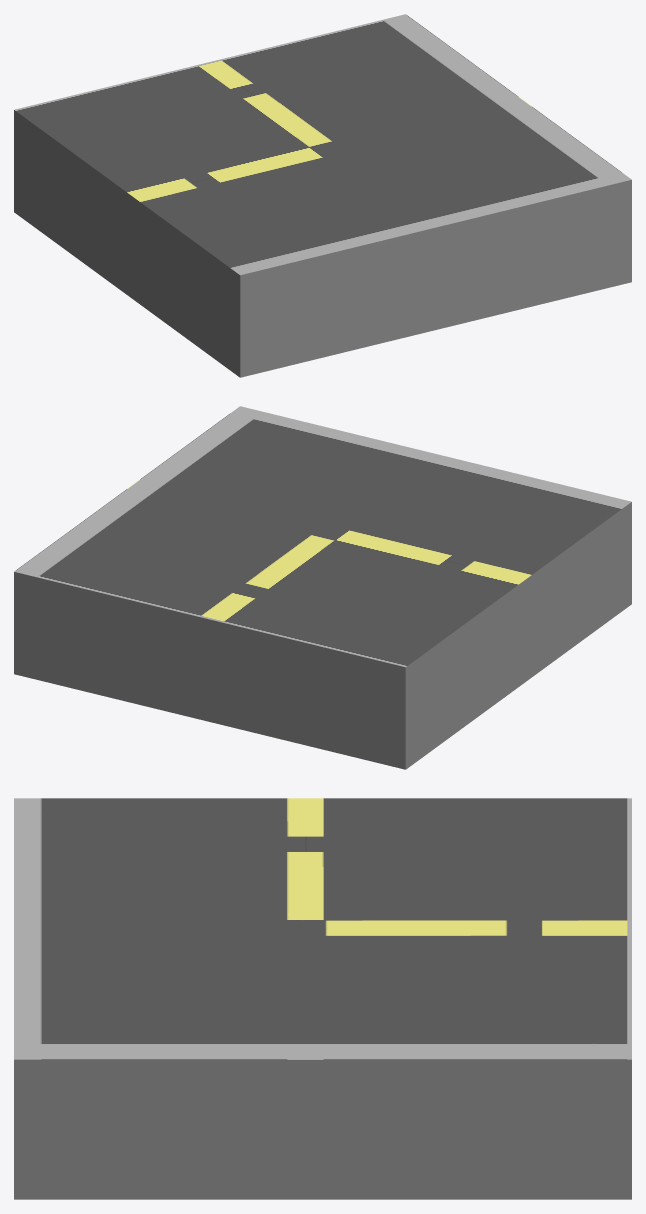
File: 2025-11-26-Boswell-CornerRoad-v002.fbx
The picture shows the model from 3 angles, top to bottom: view 1: azimuth 30°, elevation 25°; view 2: azimuth 150°, elevation 25°; view 3: azimuth 270°, elevation 25°; orthographic projection. The views are drawn at different scales.
Parts seen in each view (by area): view 1: Cube; view 2: Cube; view 3: Cube.
Part boxes in pixels (x1,y1,x2,y2): Cube: [14, 14, 631, 377]; Cube: [14, 406, 631, 769]; Cube: [14, 798, 631, 1199].
Size of the model in its own units: 100 by 25 by 100.
Materials: 2 (1 with a texture image).
